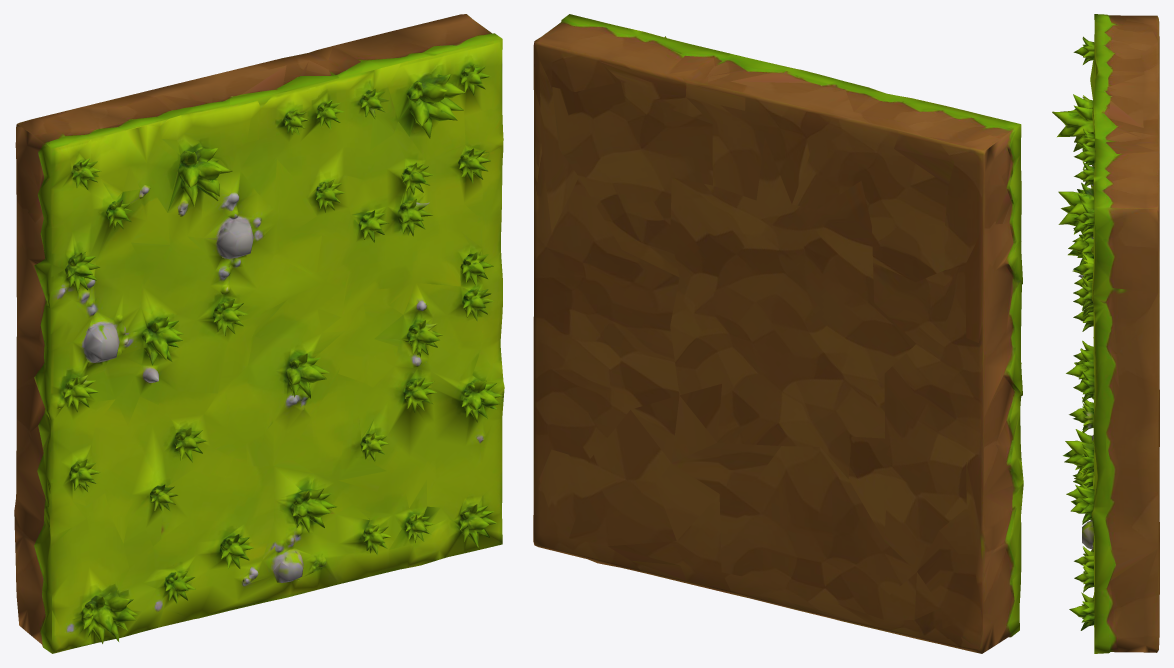
File: zemlya_trava.glb
The picture shows the model from 3 angles, left to right: view 1: azimuth 30°, elevation 25°; view 2: azimuth 150°, elevation 25°; view 3: azimuth 270°, elevation 25°; orthographic projection. The views are drawn at different scales.
Parts seen in each view (by area): view 1: zemlya_trava; view 2: zemlya_trava; view 3: zemlya_trava.
Boxes of the visible parts, <box> form: zemlya_trava: <box>14,14,504,653</box>; zemlya_trava: <box>533,14,1023,653</box>; zemlya_trava: <box>1052,14,1159,653</box>.
Bounding box in the file's own units: 6 × 6.42 × 1.4.
Materials: 1 (1 with a texture image).
